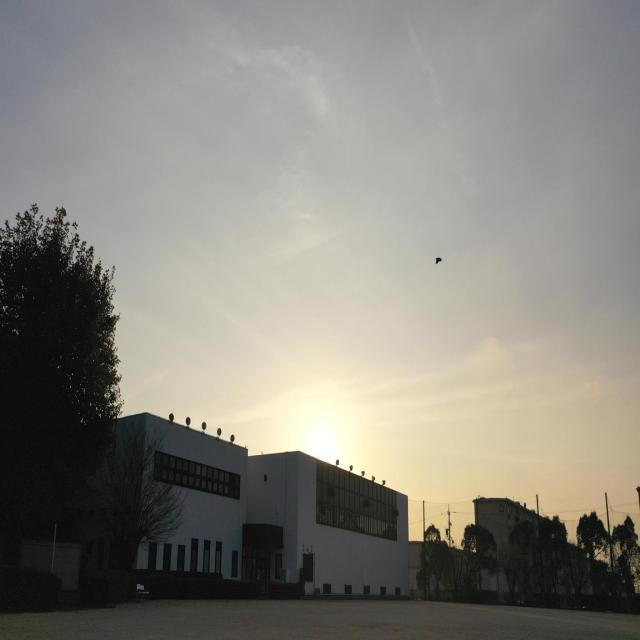Birds: (429, 248, 449, 270)
